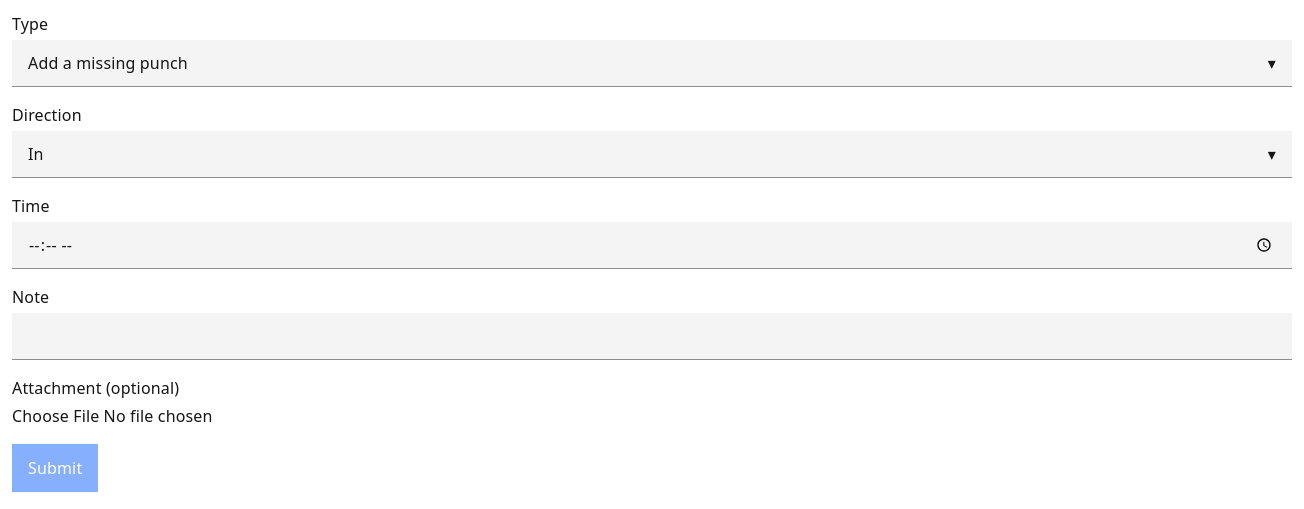
Test case: CorrectionForm › shows the target-punch picker (options = the day's punches) and hides the time field for "void"
Click the dropdown named "Type". click: click(108, 63)
box: 12,40 -> 1292,87
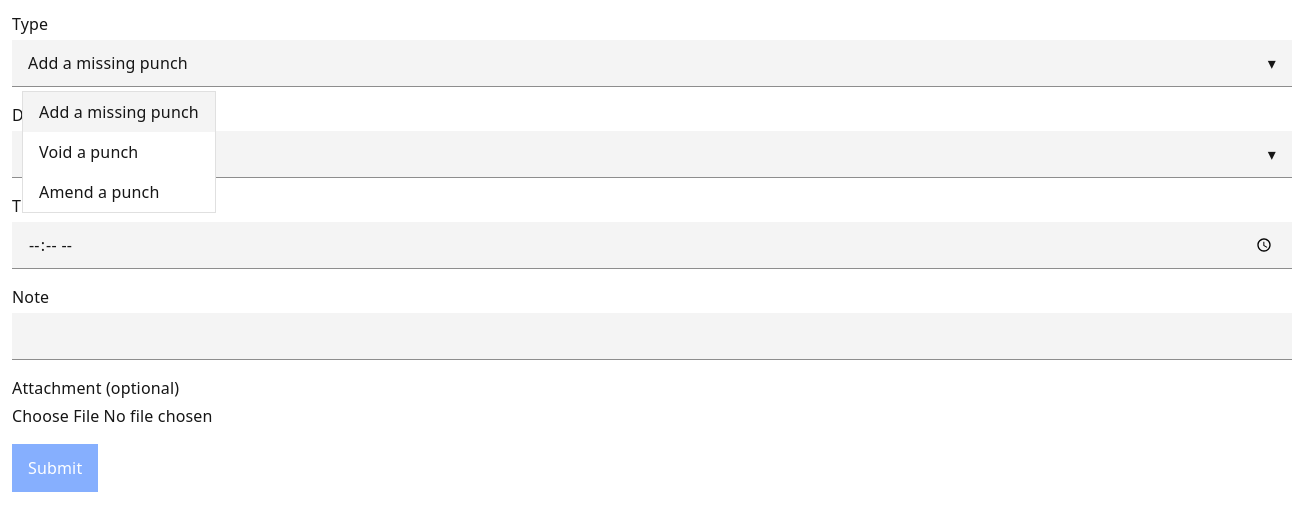
Click the option "Void a punch". click: click(89, 152)
box: 39,141 -> 138,163
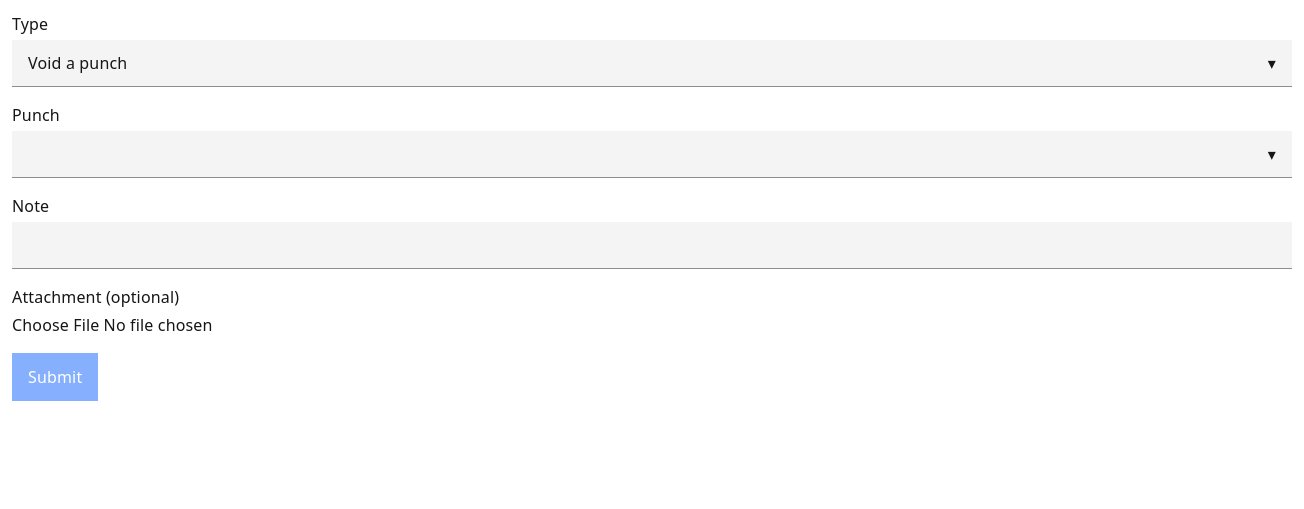
Result: the label labelled "Time" is gone
Result: the label labelled "Direction" is gone
Click the dropdown named "Punch". click: click(1272, 154)
box: 12,131 -> 1292,178
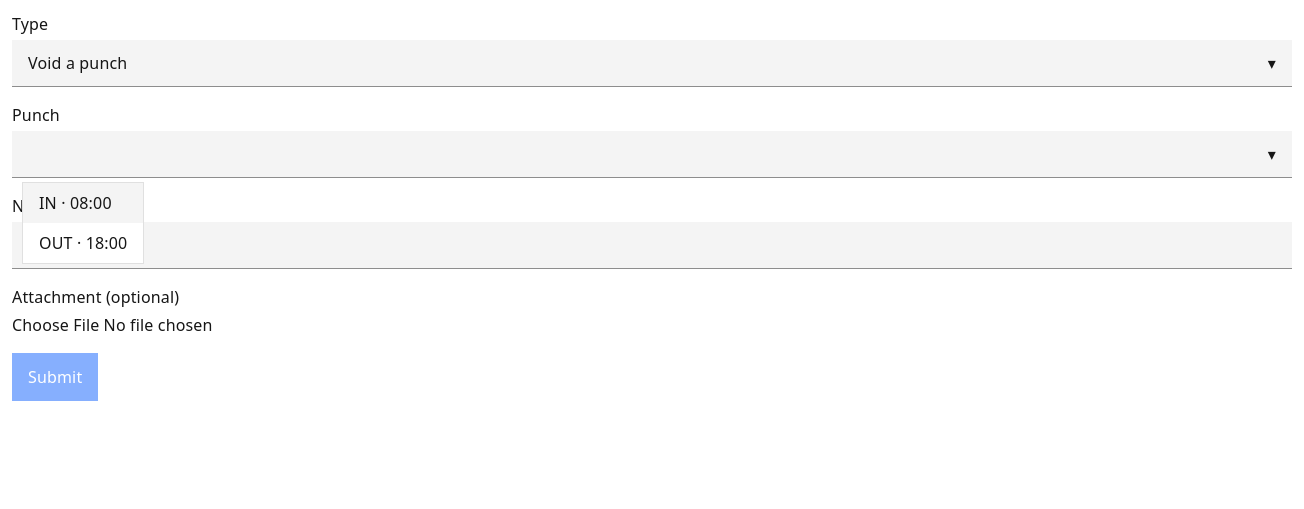
Result: the option "IN · 08:00" is shown at 23,183 -> 143,223
Result: the option "OUT · 18:00" is shown at 39,232 -> 127,254
